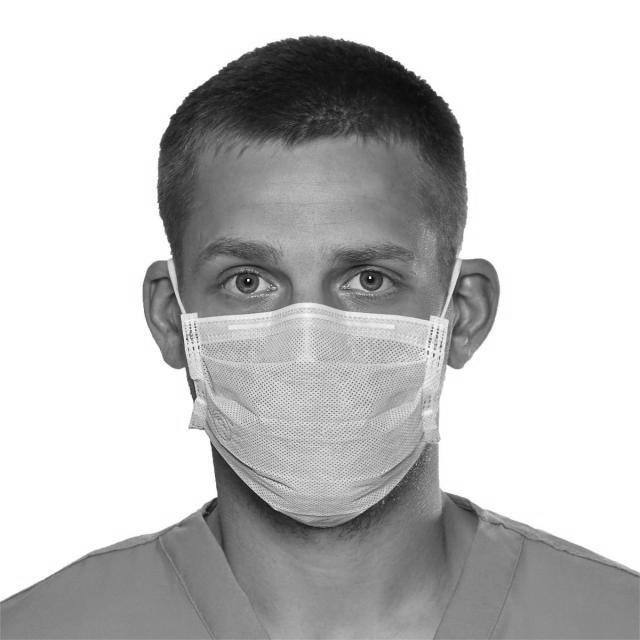fake: (178, 305, 456, 529)
real: (178, 138, 445, 533)
